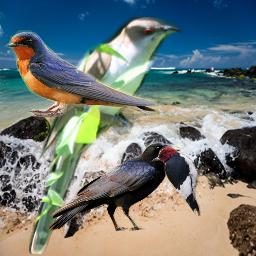Crow: (47, 141, 181, 231)
Cuckoo: (29, 17, 184, 254)
Swallow: (4, 29, 158, 122)
Woodpecker: (148, 146, 204, 216)
